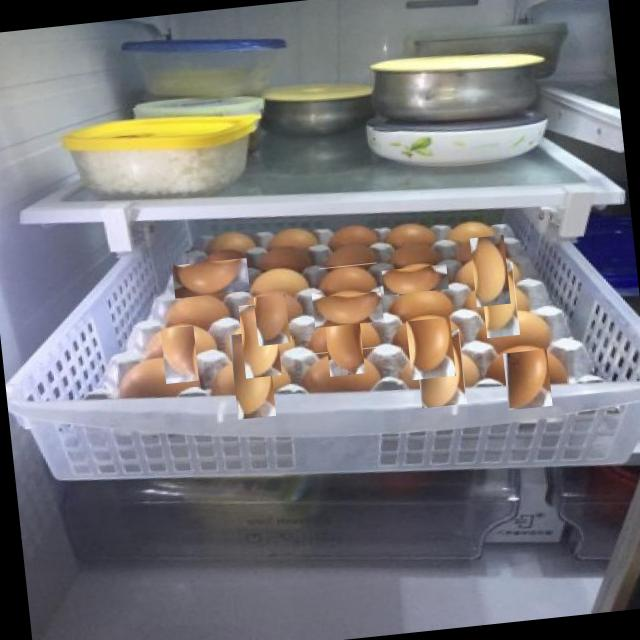eggs: (491, 330, 562, 400), (393, 300, 464, 370), (218, 341, 287, 408), (468, 306, 558, 357), (296, 346, 382, 399), (407, 335, 473, 401), (116, 351, 207, 398), (146, 310, 210, 374), (312, 304, 376, 366), (230, 310, 290, 370), (470, 270, 529, 329), (240, 278, 300, 336), (171, 256, 250, 298), (460, 242, 518, 298), (311, 284, 384, 328), (156, 291, 232, 329), (384, 286, 456, 324), (381, 262, 448, 296), (318, 262, 379, 297), (250, 266, 310, 298)
